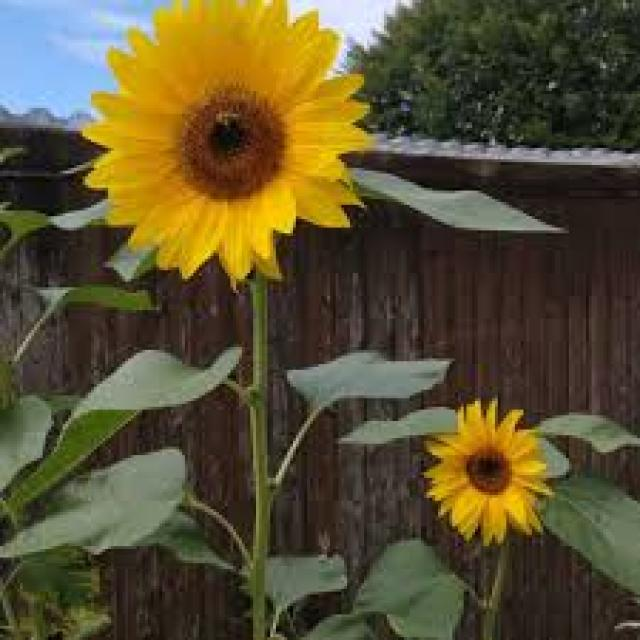sunflower: (69, 0, 382, 300), (417, 392, 559, 552)
